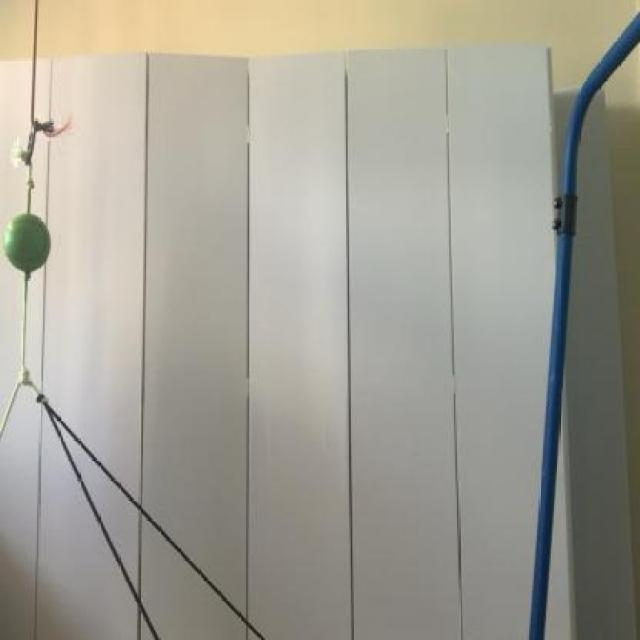baseball: (0, 208, 58, 276)
